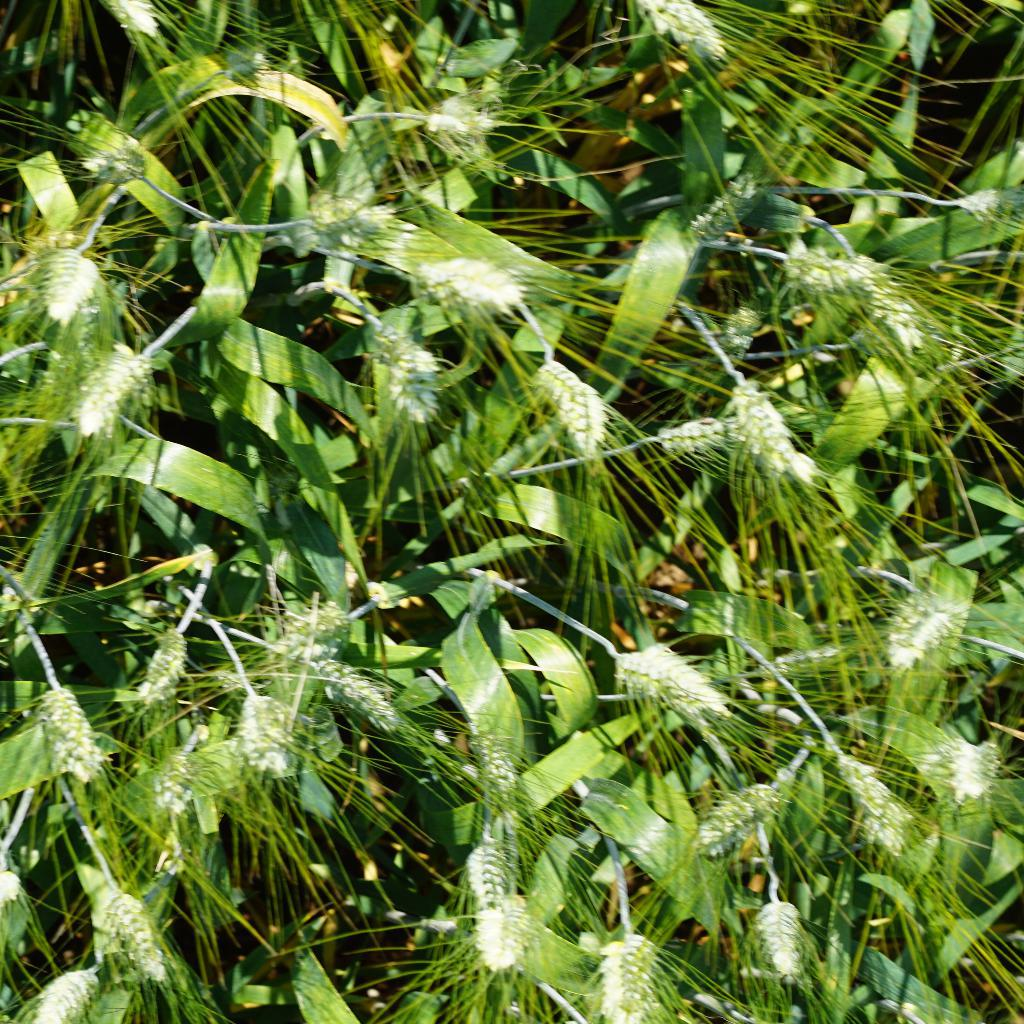0-0: (512, 339, 620, 467), (829, 236, 926, 370), (822, 747, 935, 858), (721, 363, 818, 488), (603, 639, 736, 728), (60, 321, 153, 445), (291, 159, 404, 256), (83, 867, 176, 983), (627, 0, 751, 80), (681, 759, 783, 851), (585, 918, 673, 1024), (296, 650, 404, 733), (750, 860, 819, 987), (402, 250, 541, 311), (878, 565, 959, 669), (33, 681, 111, 787), (236, 684, 310, 795), (377, 318, 448, 425), (417, 89, 513, 165), (654, 403, 761, 468), (464, 886, 541, 974), (748, 625, 868, 681), (444, 818, 520, 905), (695, 300, 772, 385), (30, 246, 112, 325), (463, 717, 533, 807), (676, 168, 754, 247), (130, 620, 198, 710), (146, 740, 212, 828), (72, 128, 151, 198), (23, 949, 96, 1024), (275, 585, 350, 658), (766, 240, 873, 290), (937, 729, 1008, 803), (946, 179, 1024, 229)
